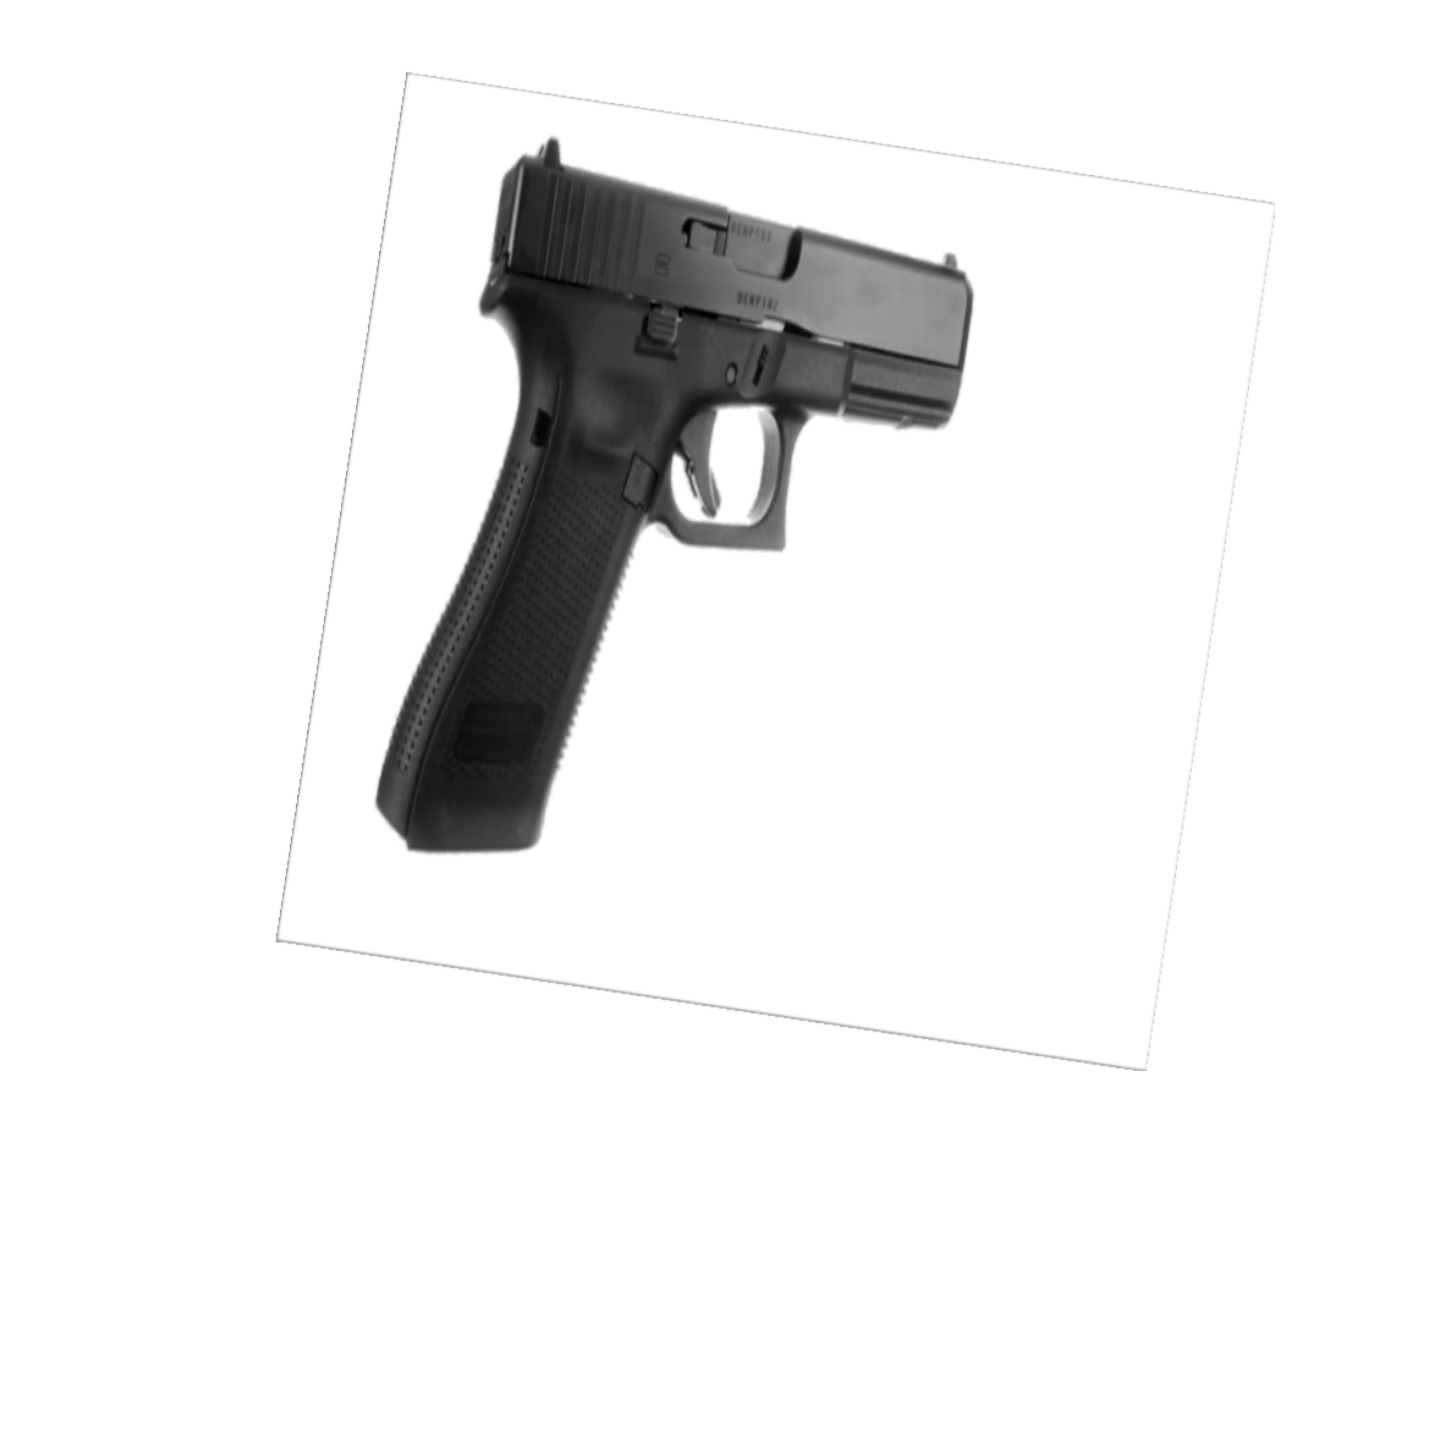gun: (359, 116, 986, 866)
